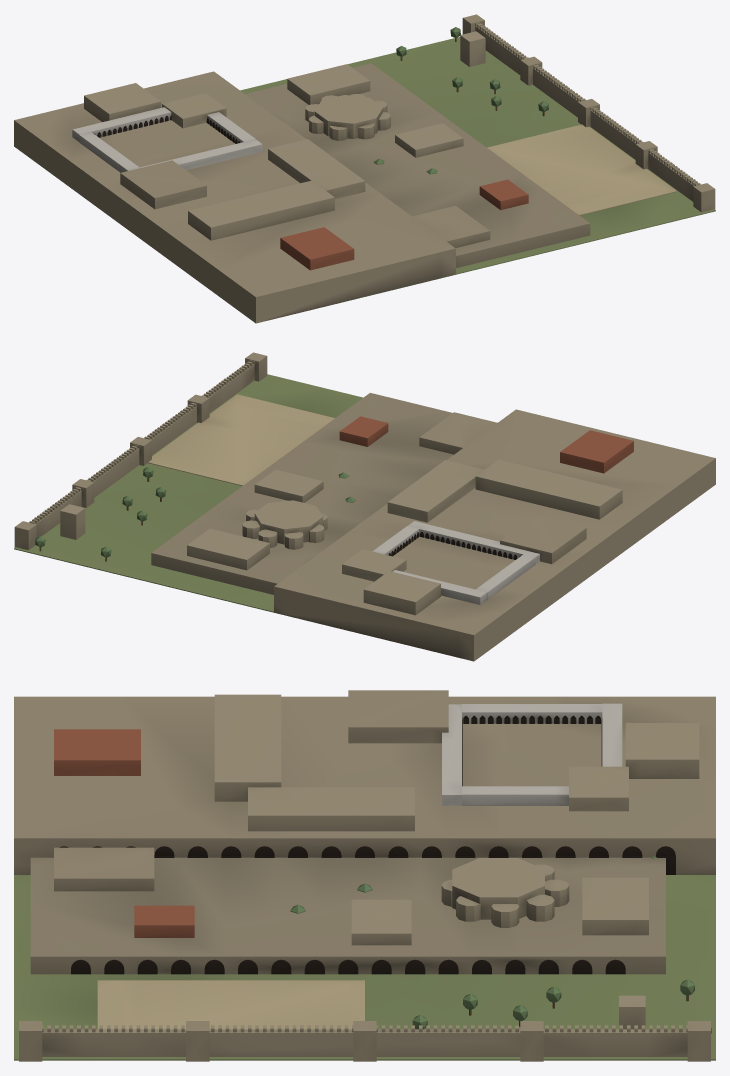
Rendered from great-palace-ruin.glb.
The picture shows the model from 3 angles, top to bottom: view 1: azimuth 30°, elevation 25°; view 2: azimuth 150°, elevation 25°; view 3: azimuth 270°, elevation 25°; orthographic projection. The views are drawn at different scales.
Visible parts, largest first — view 1: p0_terraces, p2_ruins, p1_halls; view 2: p0_terraces, p2_ruins, p1_halls; view 3: p0_terraces, p2_ruins, p1_halls.
Part boxes in pixels (x1=…): p0_terraces: x1=14, y1=37, x2=715, y2=323; p2_ruins: x1=120, y1=14, x2=715, y2=270; p1_halls: x1=72, y1=83, x2=390, y2=240; p0_terraces: x1=14, y1=374, x2=715, y2=661; p2_ruins: x1=14, y1=352, x2=633, y2=581; p1_halls: x1=242, y1=459, x2=622, y2=615; p0_terraces: x1=14, y1=696, x2=715, y2=1060; p2_ruins: x1=19, y1=690, x2=711, y2=1061; p1_halls: x1=214, y1=694, x2=699, y2=927.
Bounding box in the file's own units: 220 × 18.09 × 200.
